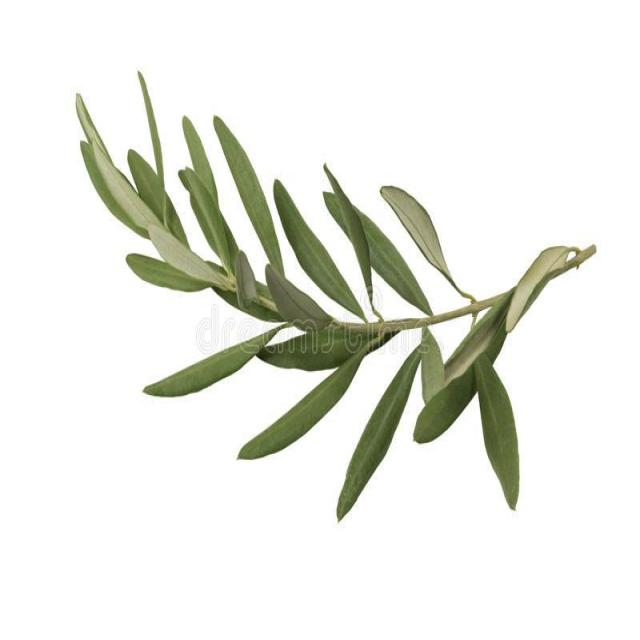Healthy: (238, 343, 372, 459), (336, 346, 420, 521), (274, 179, 358, 311), (214, 116, 283, 276), (142, 323, 288, 396), (380, 186, 471, 298), (474, 354, 519, 509), (266, 264, 331, 328), (126, 253, 210, 292)
